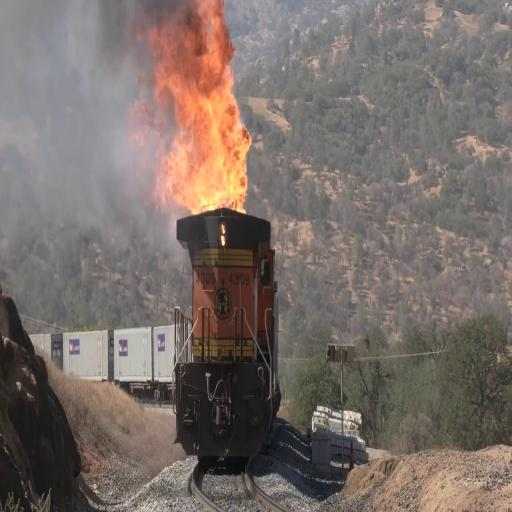fire: (133, 0, 244, 205)
